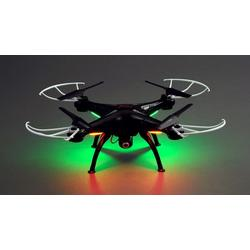drone: (24, 77, 228, 172)
